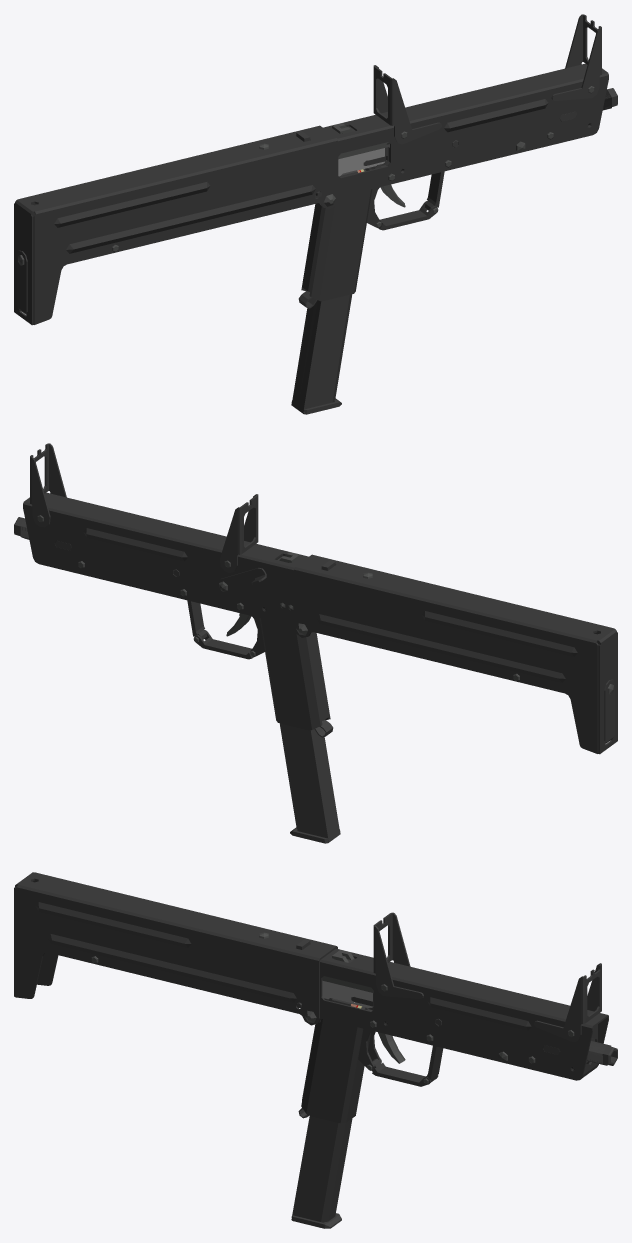
The model's file is shotgun_kbp_pp-90-named-nodes.glb.
3 renders of one model, top to bottom at view 1: azimuth 30°, elevation 25°; view 2: azimuth 150°, elevation 25°; view 3: azimuth 330°, elevation 25°, orthographic.
Parts seen in each view (by area): view 1: Object_20, Object_94, Object_98, Object_118, Object_84, Object_78, Object_10, Object_120, Object_36, Object_64; view 2: Object_20, Object_94, Object_98, Object_118, Object_84, Object_78, Object_10, Object_24, Object_36; view 3: Object_20, Object_94, Object_98, Object_118, Object_78, Object_84, Object_64, Object_120, Object_10, Object_16.
Boxes of the visible parts, bbox=[...] form: Object_20: bbox=[14, 125, 337, 325]; Object_94: bbox=[321, 63, 608, 206]; Object_98: bbox=[301, 189, 372, 301]; Object_118: bbox=[292, 170, 357, 412]; Object_84: bbox=[551, 14, 601, 100]; Object_78: bbox=[373, 65, 441, 144]; Object_10: bbox=[377, 201, 438, 230]; Object_120: bbox=[338, 148, 384, 176]; Object_36: bbox=[17, 250, 27, 314]; Object_64: bbox=[375, 88, 617, 168]; Object_20: bbox=[294, 554, 617, 754]; Object_94: bbox=[23, 492, 310, 635]; Object_98: bbox=[259, 618, 330, 730]; Object_118: bbox=[279, 723, 339, 841]; Object_84: bbox=[30, 443, 66, 527]; Object_78: bbox=[219, 494, 258, 573]; Object_10: bbox=[193, 630, 254, 659]; Object_24: bbox=[217, 567, 266, 593]; Object_36: bbox=[604, 679, 614, 743]; Object_20: bbox=[14, 872, 337, 1025]; Object_94: bbox=[318, 948, 608, 1080]; Object_98: bbox=[301, 998, 368, 1123]; Object_118: bbox=[292, 998, 352, 1222]; Object_78: bbox=[373, 912, 423, 999]; Object_84: bbox=[533, 963, 601, 1042]; Object_64: bbox=[366, 993, 617, 1065]; Object_120: bbox=[322, 980, 372, 1007]; Object_10: bbox=[372, 1058, 438, 1086]; Object_16: bbox=[358, 1028, 381, 1070].
Size of the model in its own units: 0.5063 by 0.2578 by 0.0387.
2 materials, 2 textured.
